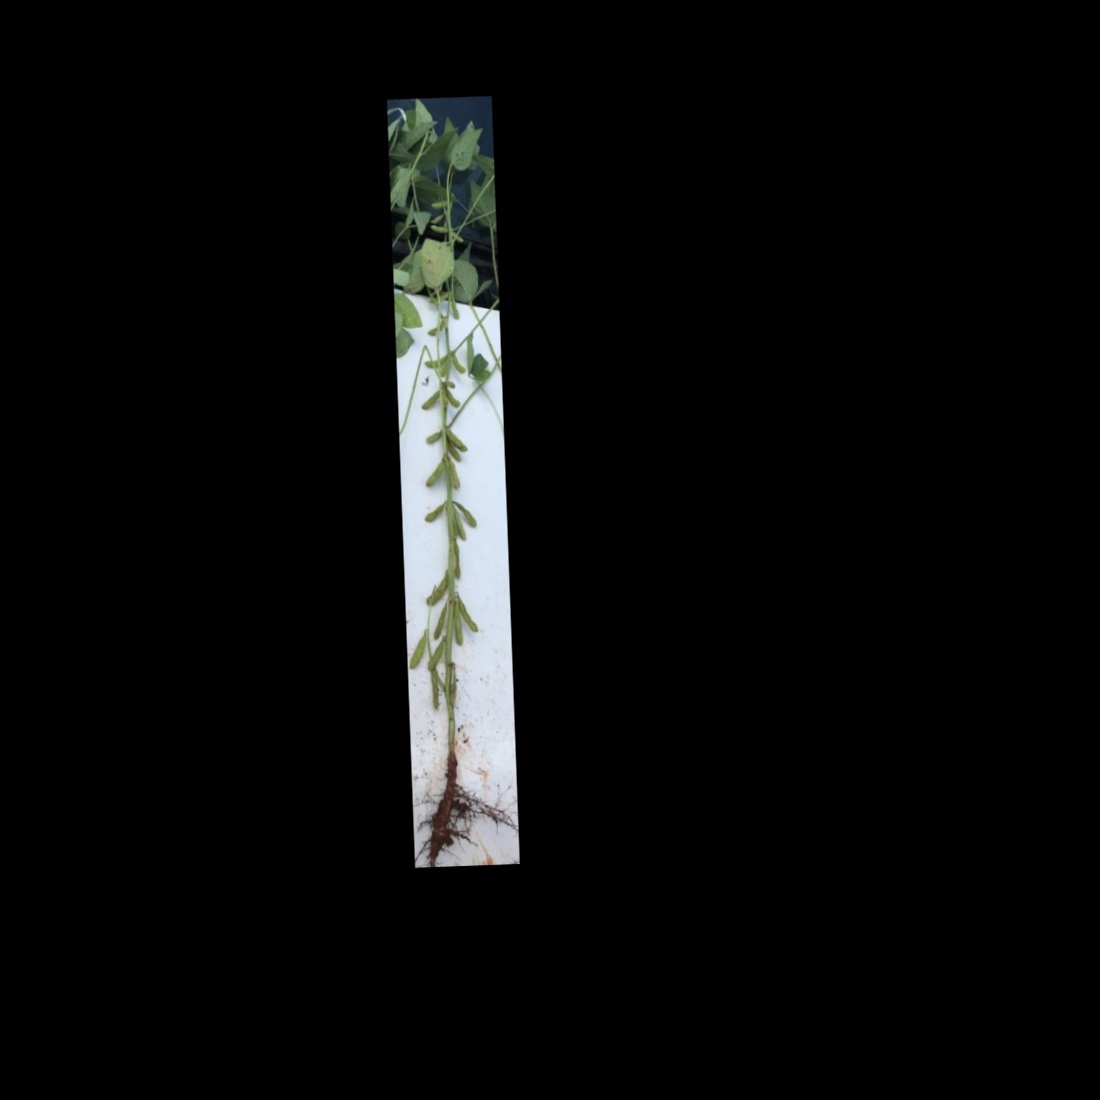pod: (423, 570, 452, 607), (408, 630, 433, 671), (450, 498, 482, 528), (456, 594, 478, 635), (422, 455, 445, 488), (446, 424, 470, 454), (426, 639, 447, 672), (418, 386, 443, 413), (427, 672, 442, 717), (431, 602, 448, 641), (422, 499, 448, 523), (451, 601, 464, 646), (448, 456, 461, 492), (423, 427, 447, 445), (422, 352, 449, 368), (453, 509, 466, 542), (445, 385, 462, 410), (450, 352, 465, 376)
soy: (389, 99, 517, 858)
